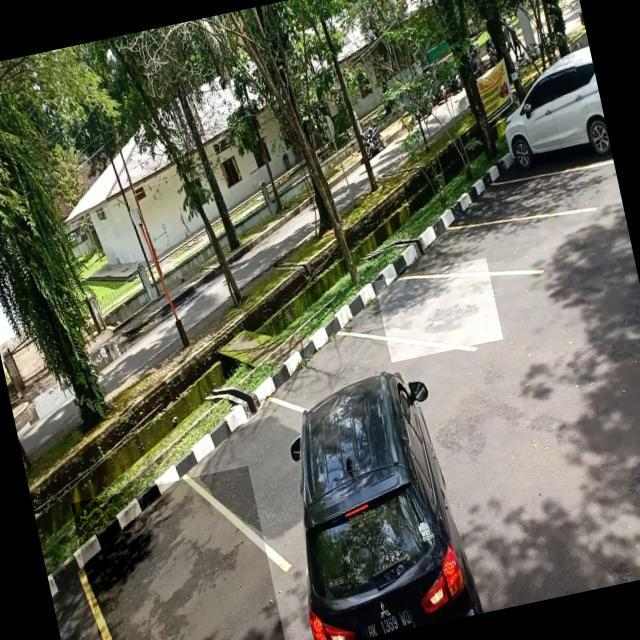empty: (70, 466, 287, 640), (374, 257, 503, 362), (438, 205, 552, 290)
